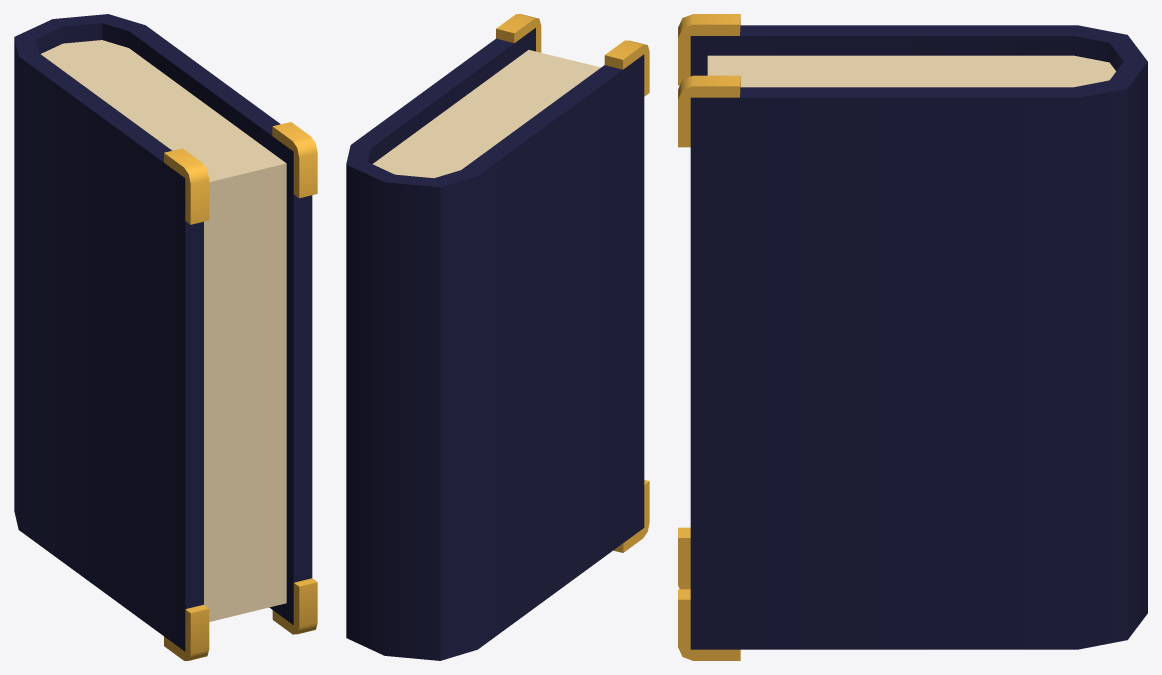
Rendered from Book_4.fbx.
3 views of the same model, side by side, from view 1: azimuth 30°, elevation 25°; view 2: azimuth 150°, elevation 25°; view 3: azimuth 270°, elevation 25° (orthographic). The views are drawn at different scales.
Visible parts, largest first — view 1: Book_4; view 2: Book_4; view 3: Book_4.
Boxes of the visible parts, x1,y1,x2,y2 form: Book_4: (14, 14, 317, 660); Book_4: (346, 14, 649, 660); Book_4: (678, 14, 1147, 660).
Size of the model in its own units: 0.0712 by 0.2642 by 0.1957.
